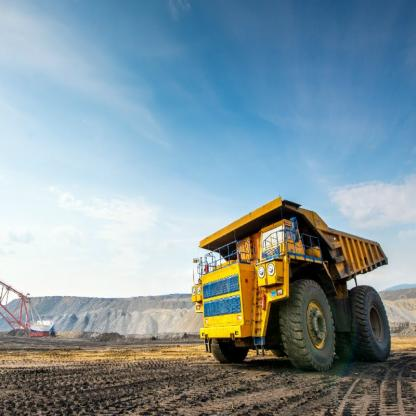dump_truck: (189, 195, 407, 392)
